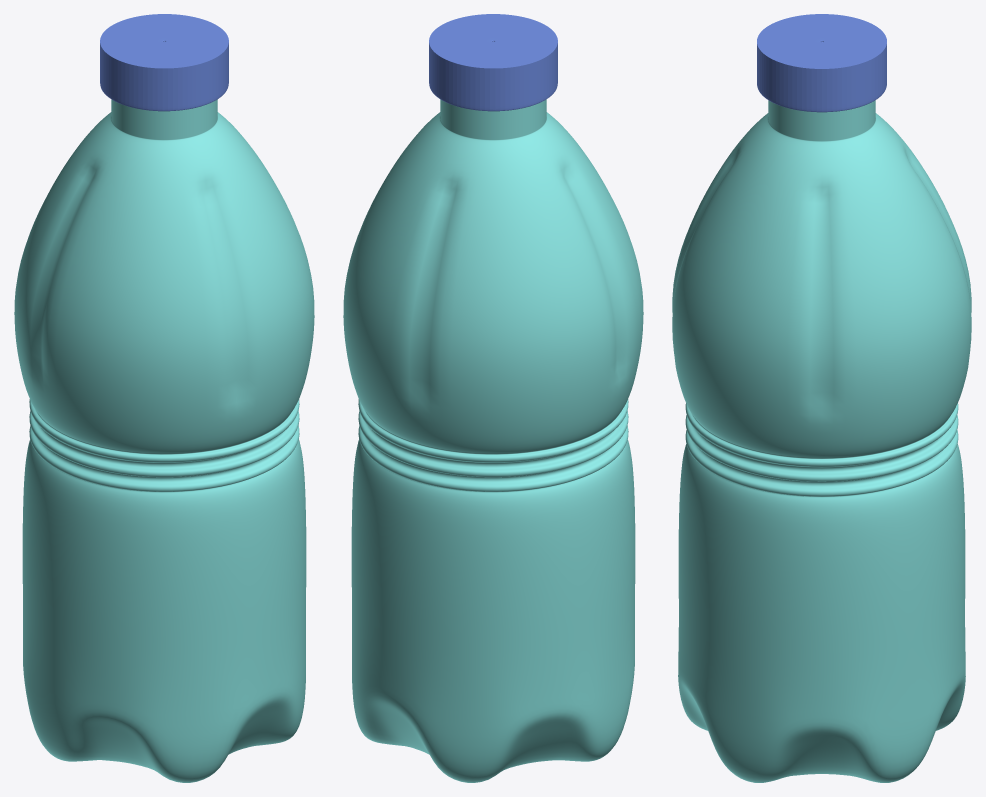
File: Sanitary Water.fbx
3 views of the same model, side by side, from view 1: azimuth 30°, elevation 25°; view 2: azimuth 150°, elevation 25°; view 3: azimuth 270°, elevation 25° (orthographic).
Visible parts, largest first — view 1: Sanitary Water, Cap; view 2: Sanitary Water, Cap; view 3: Sanitary Water, Cap.
Part boxes in pixels (x1=…): Sanitary Water: x1=14, y1=99, x2=314, y2=782; Cap: x1=100, y1=14, x2=228, y2=111; Sanitary Water: x1=343, y1=99, x2=643, y2=782; Cap: x1=429, y1=14, x2=557, y2=111; Sanitary Water: x1=672, y1=100, x2=971, y2=782; Cap: x1=757, y1=14, x2=886, y2=112.
Size of the model in its own units: 7.55 by 19.71 by 7.55.
